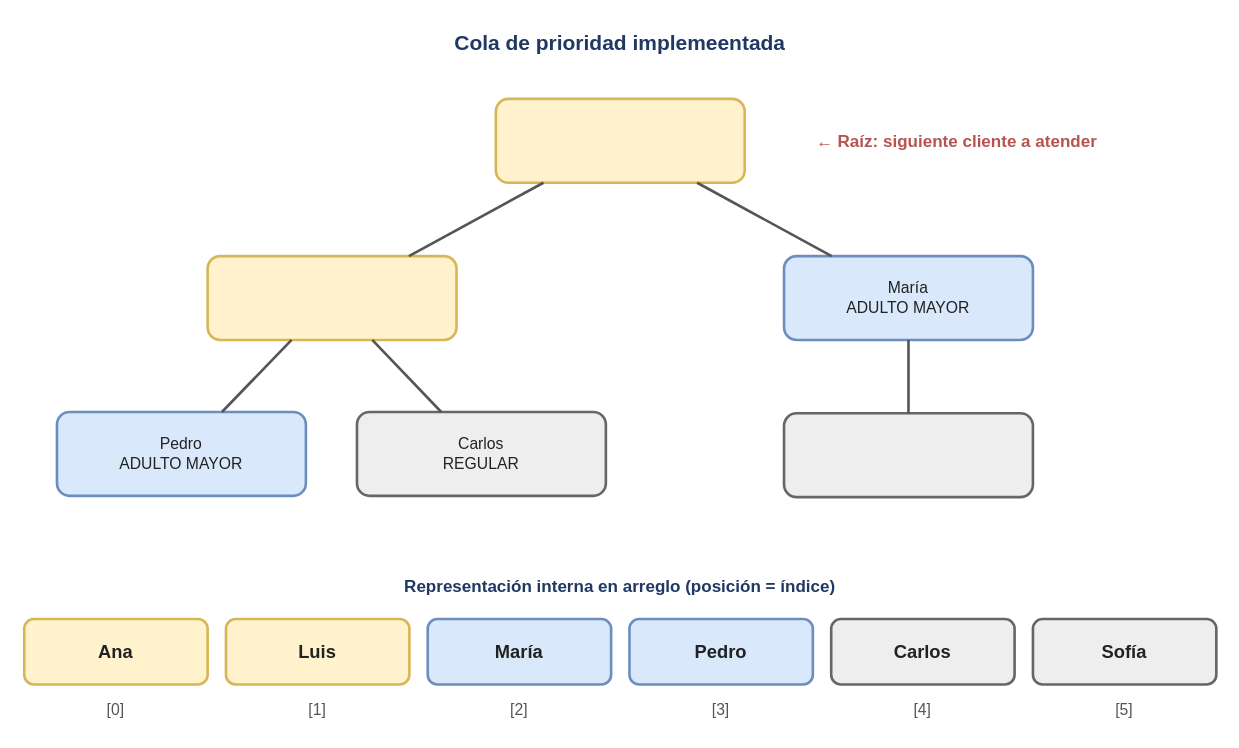
Some shapes in this 1239 by 748 pixel diagram are drawn without their labels. Each missing label, with the centre of its shape:
Ana VIP: (619,140)
Luis VIP: (331,297)
Sofía REGULAR: (908,454)
